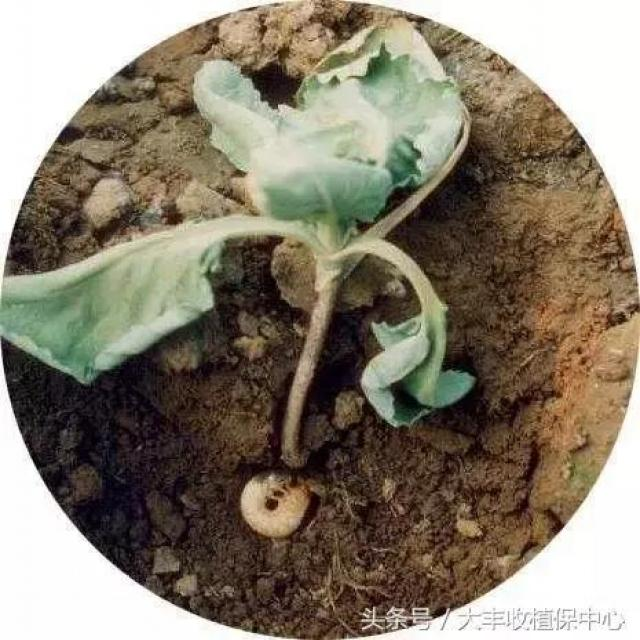Grub-Adult-: (232, 464, 311, 544)
